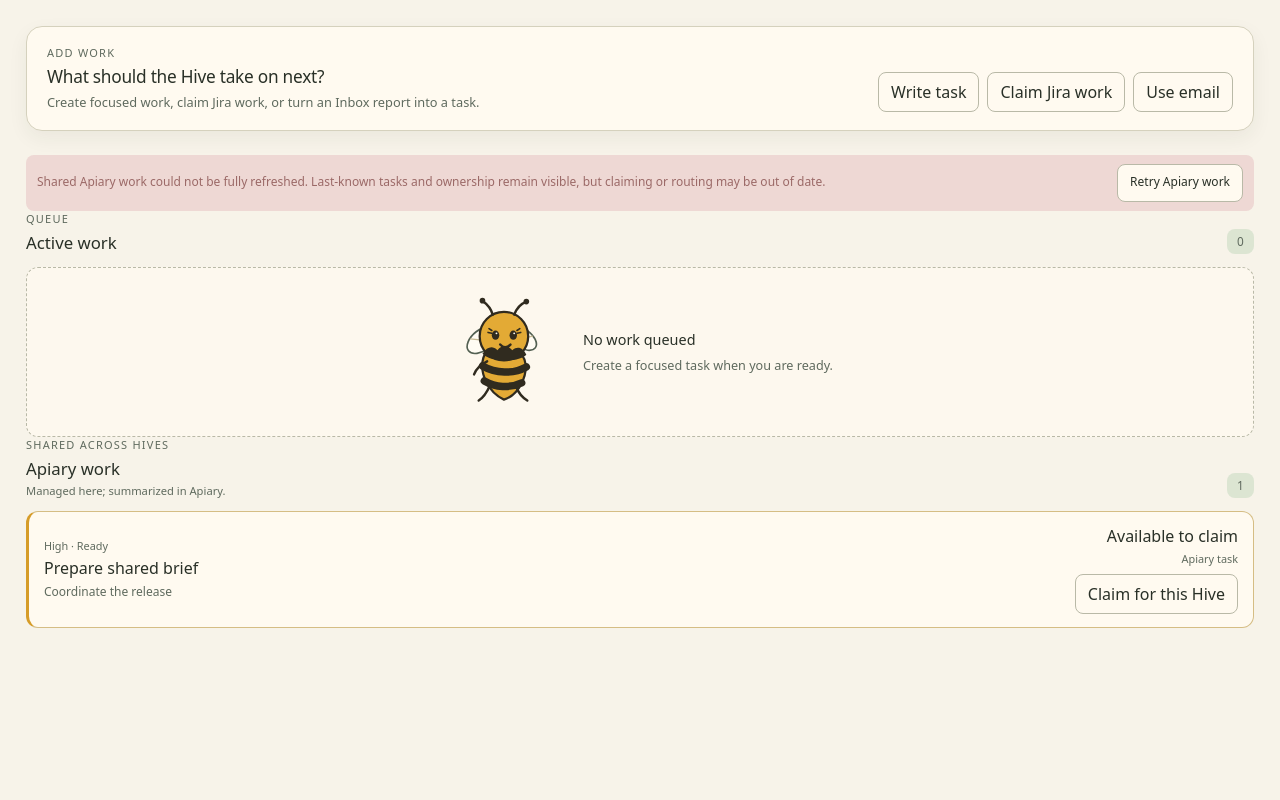
it: keeps last-known shared work on refresh failure and can retry
Expected: the text "Prepare shared brief" is shown, [44,557,198,579]
Click the button "Retry Apiary work" at (1180, 182), box [1117,164,1243,202]
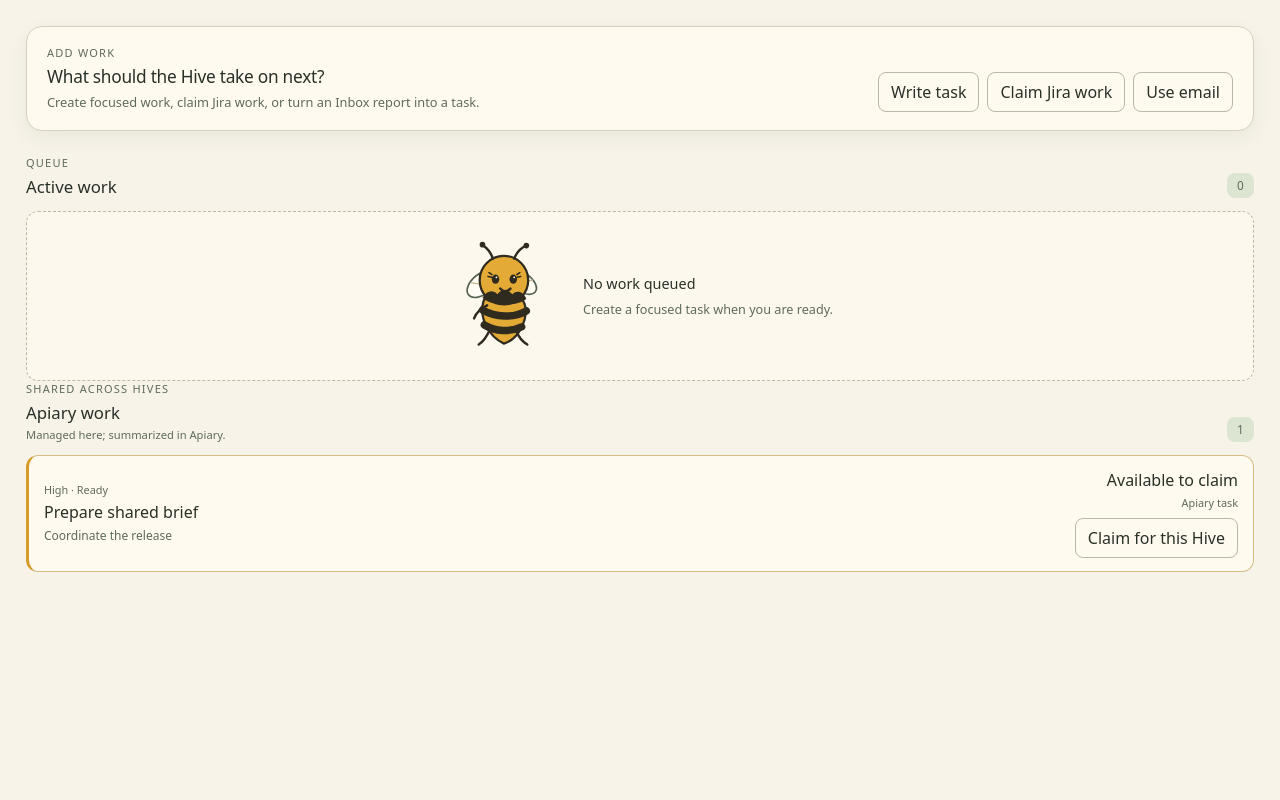
Now the button "Retry Apiary work" is gone
